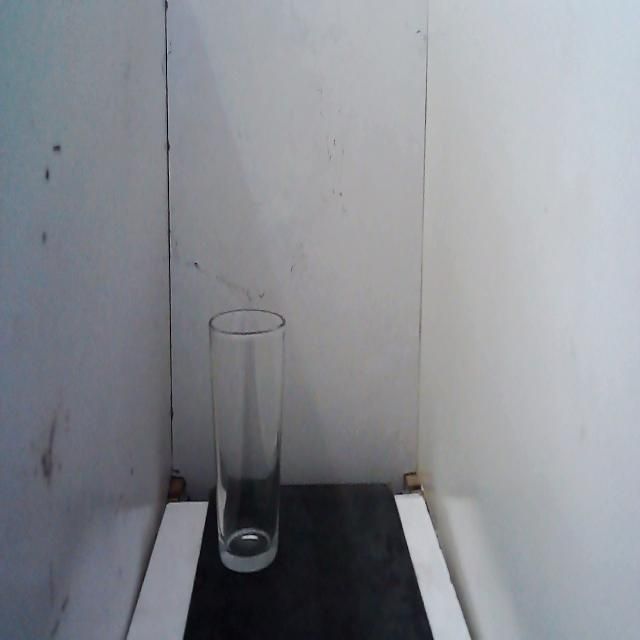vidro: (201, 298, 291, 586)
